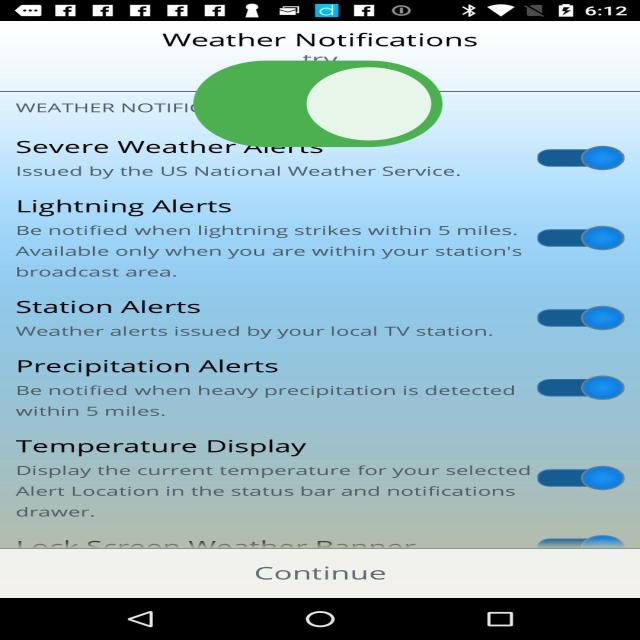social proof: (182, 27, 454, 187)
